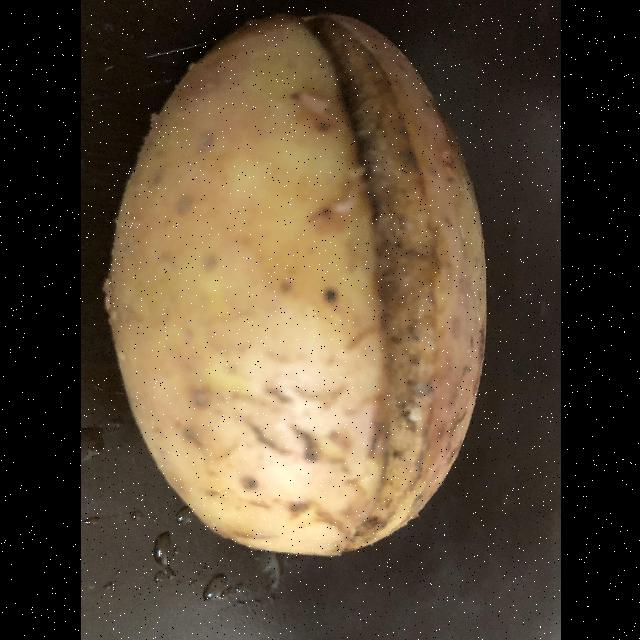Damaged potato: (104, 11, 488, 552)
